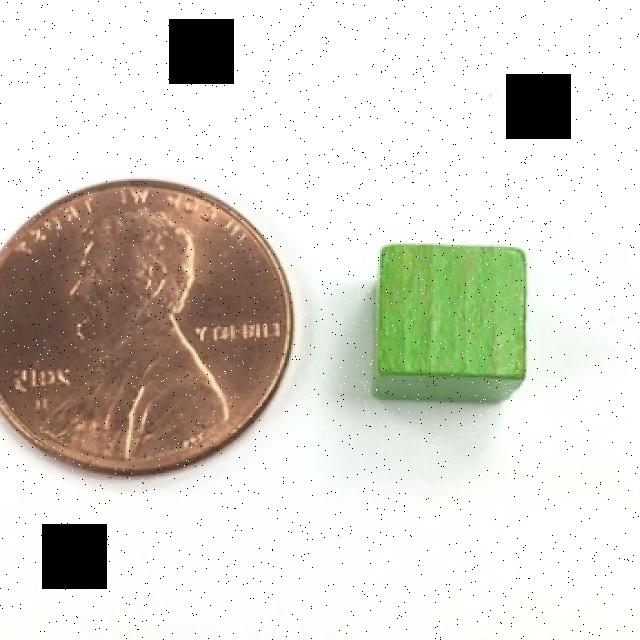green cube: (371, 244, 527, 402)
